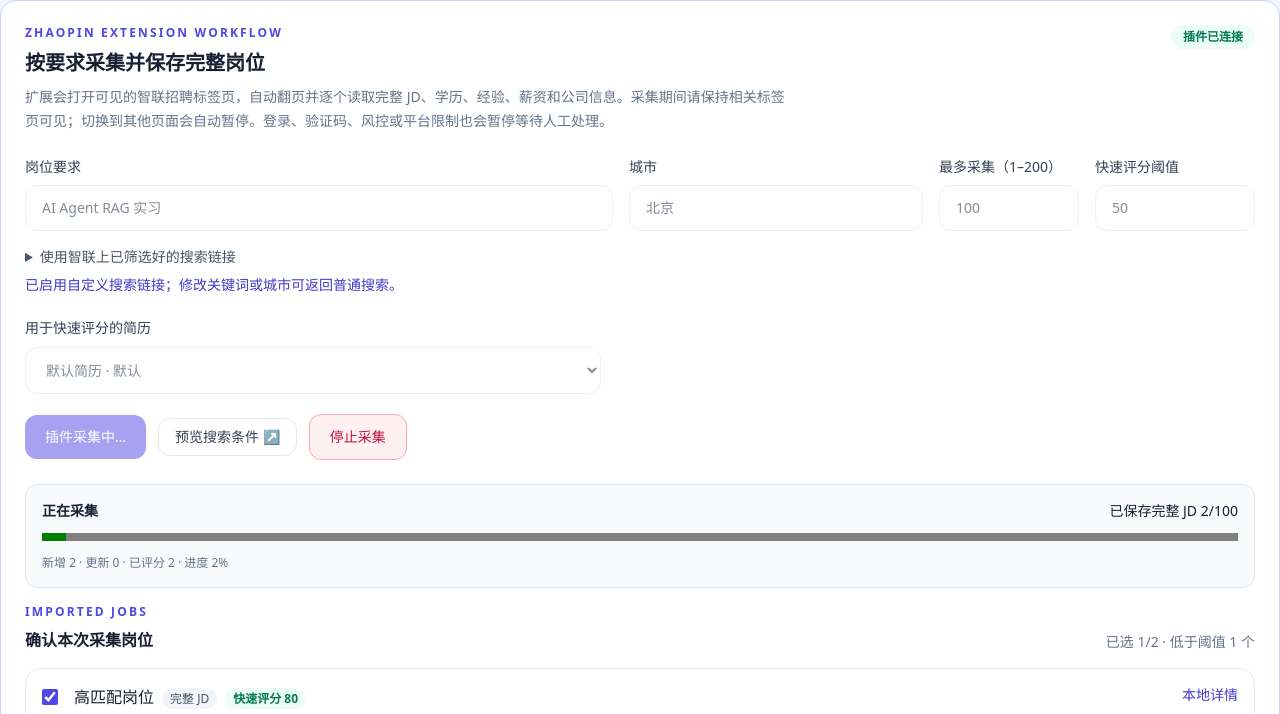
Zhaopin background progress › explains when a city cannot be converted instead of sending an invalid URL
This screenshot has width=1280, height=714.
Replace the text in the field labelled "城市" with "不存在的城市". click: (776, 208)
box: 629,185 -> 923,231
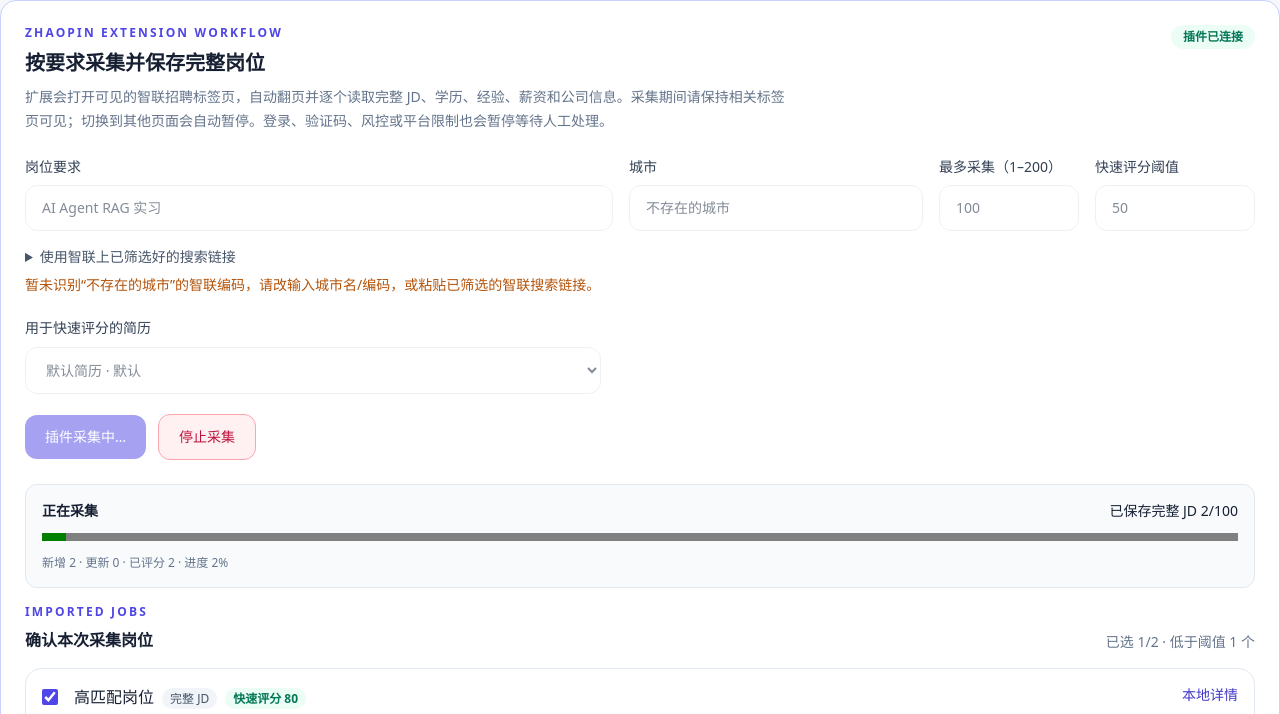
Check: the link "预览搜索条件 ↗" is gone
Check: the text "暂未识别“不存在的城市”的智联编码，请改输入城市名/编码，或粘贴已筛选的智联搜索链接。" is shown, box 25,275 -> 600,294
